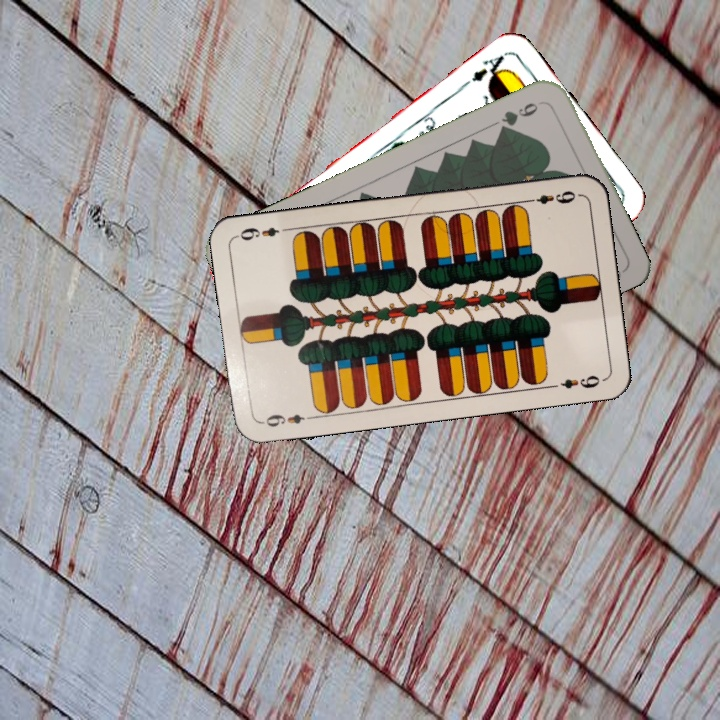E9: (522, 186, 581, 207), (258, 410, 317, 430)
EA: (467, 48, 510, 87)
G9: (495, 97, 547, 135)
